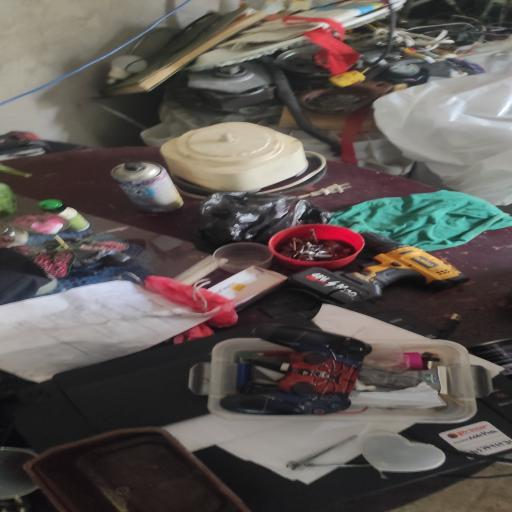ControlPlay4: (220, 324, 372, 415)
